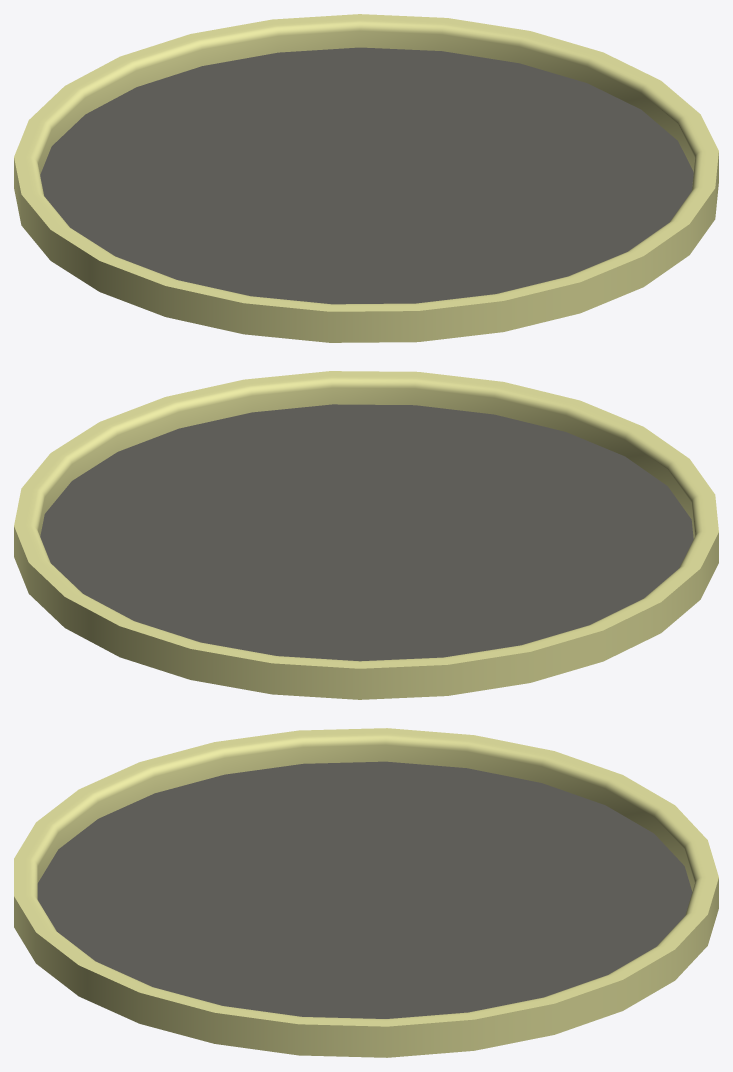
The picture shows the model from 3 angles, top to bottom: view 1: azimuth 30°, elevation 25°; view 2: azimuth 150°, elevation 25°; view 3: azimuth 270°, elevation 25°; orthographic projection.
Visible parts, largest first — view 1: Cylinder.002; view 2: Cylinder.002; view 3: Cylinder.002.
Part boxes in pixels (bbox=[...]): Cylinder.002: bbox=[14, 14, 718, 342]; Cylinder.002: bbox=[14, 371, 718, 699]; Cylinder.002: bbox=[14, 728, 718, 1057].
Size of the model in its own units: 200 by 9.72 by 199.
